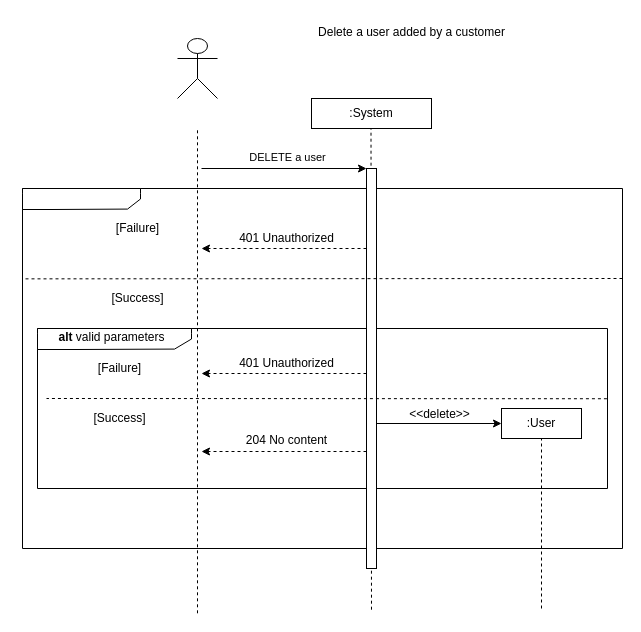
Image size: 641x632. Some labels were removed from this diagram. Each missing label, with the centre of its shape:
alt Authentication: the point at 81,199
Visitor: the point at 197,68
